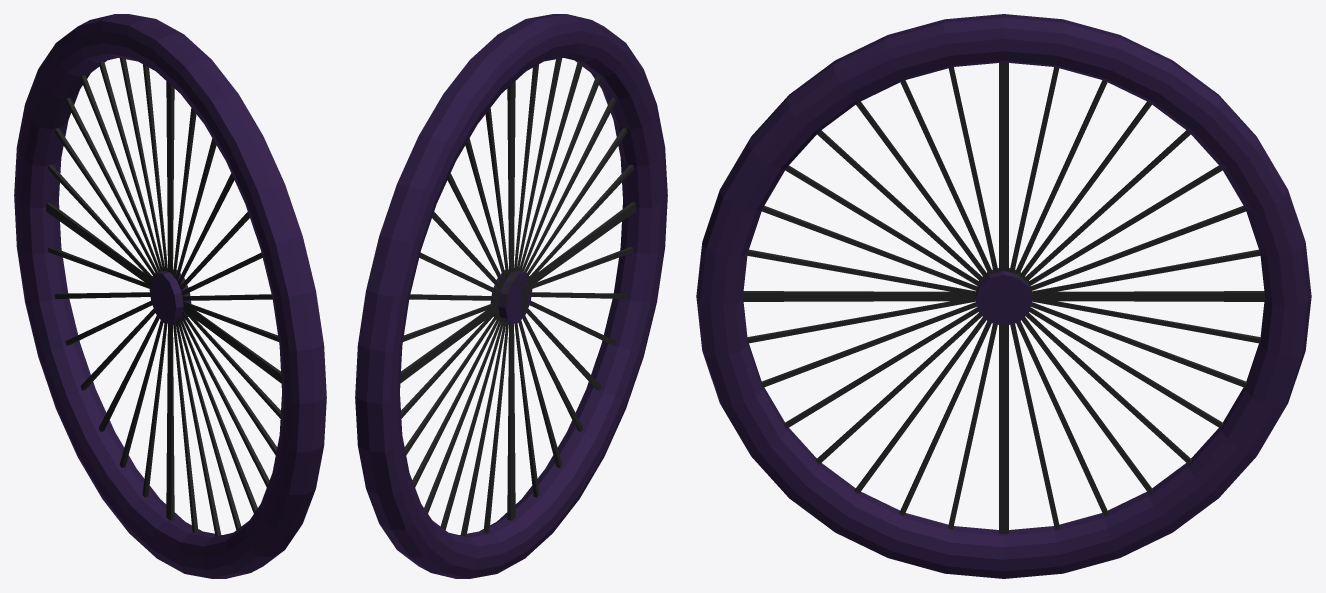
File: bici.fbx
3 views of the same model, side by side, from view 1: azimuth 30°, elevation 25°; view 2: azimuth 150°, elevation 25°; view 3: azimuth 270°, elevation 25° (orthographic). The views are drawn at different scales.
Visible parts, largest first — view 1: Torus.001; view 2: Torus.001; view 3: Torus.001.
Boxes of the visible parts, box(x1,y1,x2,y2) form: Torus.001: box(14, 14, 326, 578); Torus.001: box(355, 14, 667, 578); Torus.001: box(696, 14, 1311, 578).
Size of the model in its own units: 8.59 by 124 by 124.
1 material, 1 textured.
